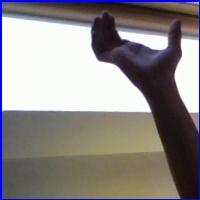space: (80, 8, 191, 84)
